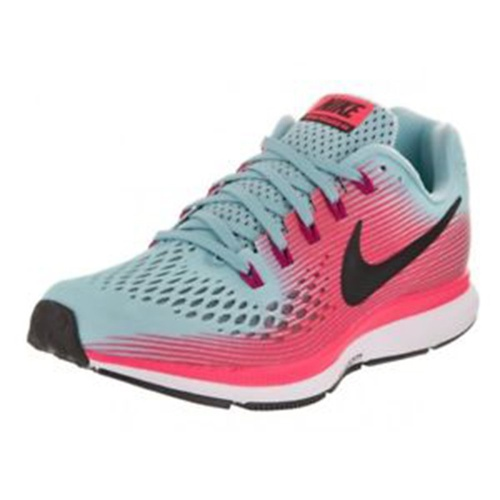nike: (335, 197, 466, 310)
